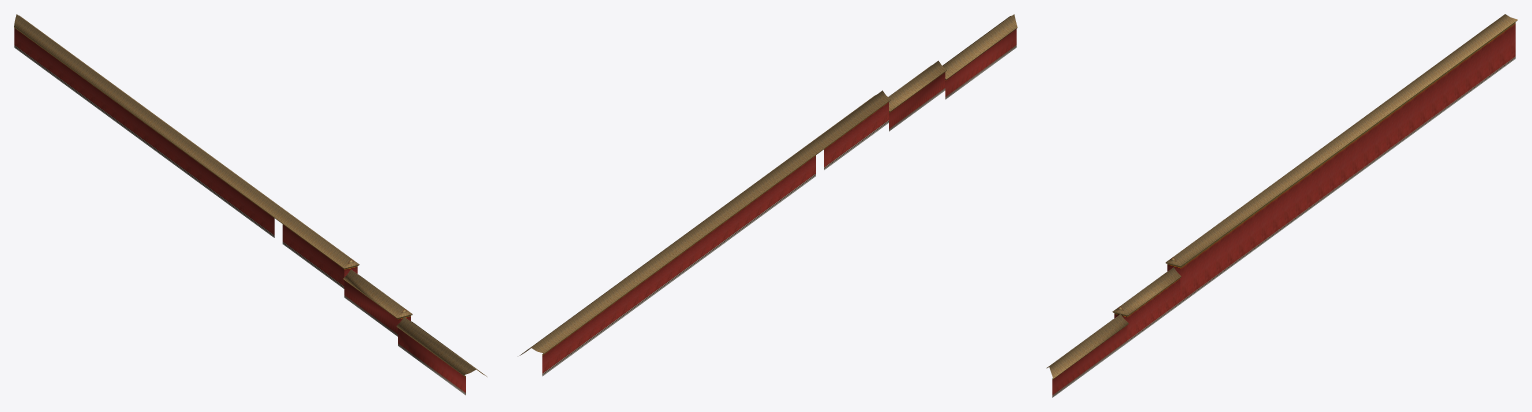
The model's file is cj_pal_dam_right.glb.
3 renders of one model, left to right at view 1: azimuth 30°, elevation 25°; view 2: azimuth 150°, elevation 25°; view 3: azimuth 330°, elevation 25°, orthographic. The views are drawn at different scales.
Parts seen in each view (by area): view 1: CJ_pal_dam_right_wall, CJ_pal_dam_right_roof; view 2: CJ_pal_dam_right_wall, CJ_pal_dam_right_roof; view 3: CJ_pal_dam_right_wall, CJ_pal_dam_right_roof.
Boxes of the visible parts, bbox=[...] form: CJ_pal_dam_right_wall: bbox=[14, 28, 465, 395]; CJ_pal_dam_right_roof: bbox=[14, 14, 486, 376]; CJ_pal_dam_right_wall: bbox=[542, 29, 1016, 376]; CJ_pal_dam_right_roof: bbox=[519, 14, 1017, 355]; CJ_pal_dam_right_wall: bbox=[1052, 22, 1515, 397]; CJ_pal_dam_right_roof: bbox=[1046, 14, 1517, 379].
Bounding box in the file's own units: 3.86 × 10.56 × 193.
Materials: 2 (2 with a texture image).
